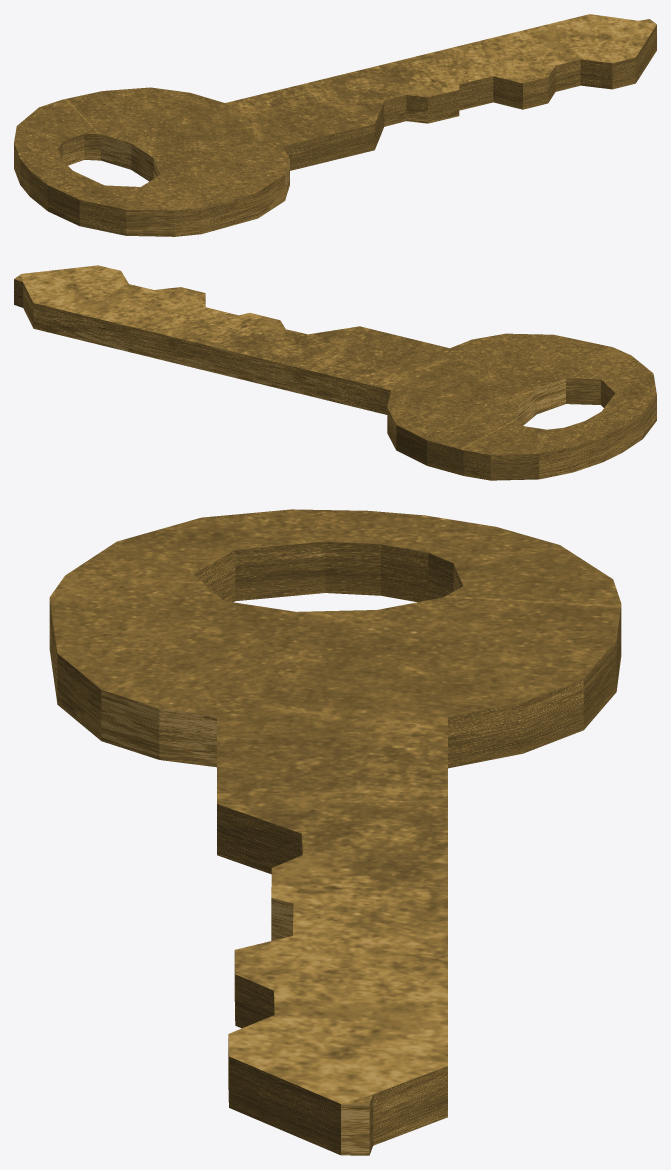
Rendered from simplekey.obj.
3 renders of one model, top to bottom at view 1: azimuth 30°, elevation 25°; view 2: azimuth 150°, elevation 25°; view 3: azimuth 270°, elevation 25°, orthographic. The views are drawn at different scales.
Parts seen in each view (by area): view 1: Cube; view 2: Cube; view 3: Cube.
Part boxes in pixels (x1,y1,x2,y2): Cube: (14,14,656,236); Cube: (14,265,656,480); Cube: (49,509,621,1155).
Size of the model in its own units: 4.96 by 0.2 by 2.02.
1 material, 1 textured.
